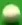white: (0, 0, 22, 25)
